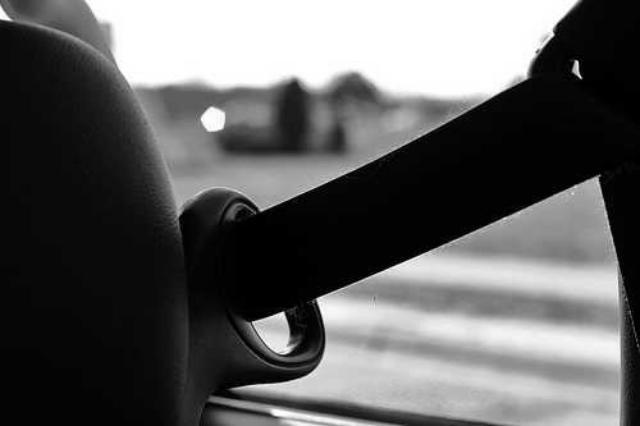Seatbelt: (175, 0, 640, 346)
